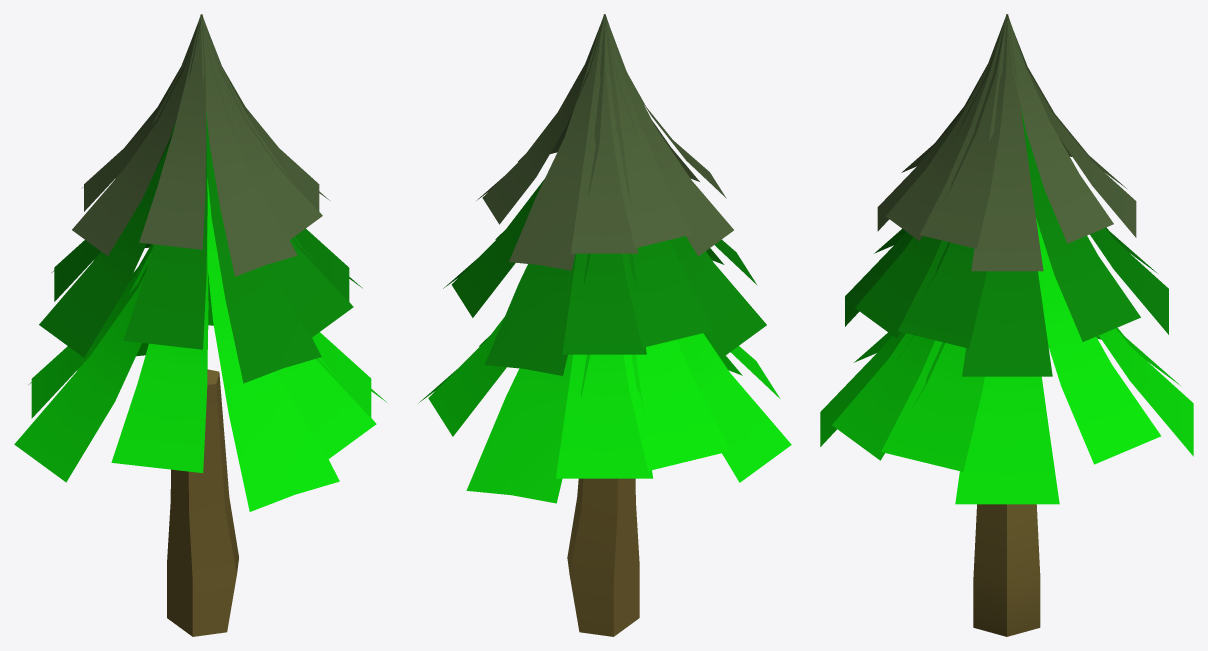
Rendered from tree_v002.fbx.
3 renders of one model, left to right at view 1: azimuth 30°, elevation 25°; view 2: azimuth 150°, elevation 25°; view 3: azimuth 270°, elevation 25°, orthographic.
Visible parts, largest first — view 1: polySurface83; view 2: polySurface83; view 3: polySurface83.
Part boxes in pixels (x1,y1,x2,y2): polySurface83: [14, 14, 386, 636]; polySurface83: [418, 14, 791, 636]; polySurface83: [820, 14, 1193, 636].
Bounding box in the file's own units: 305 × 550 × 305.
